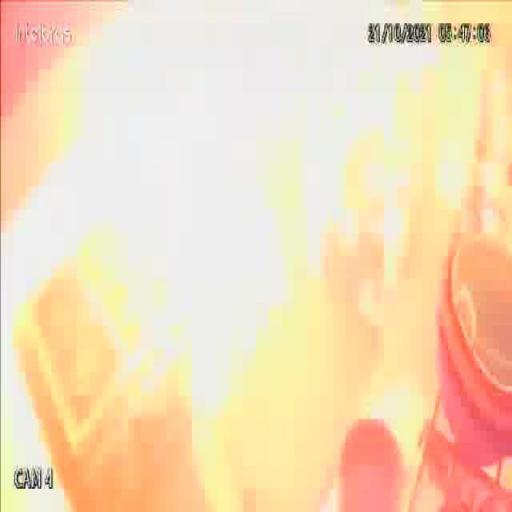smoke: (1, 0, 512, 511)
